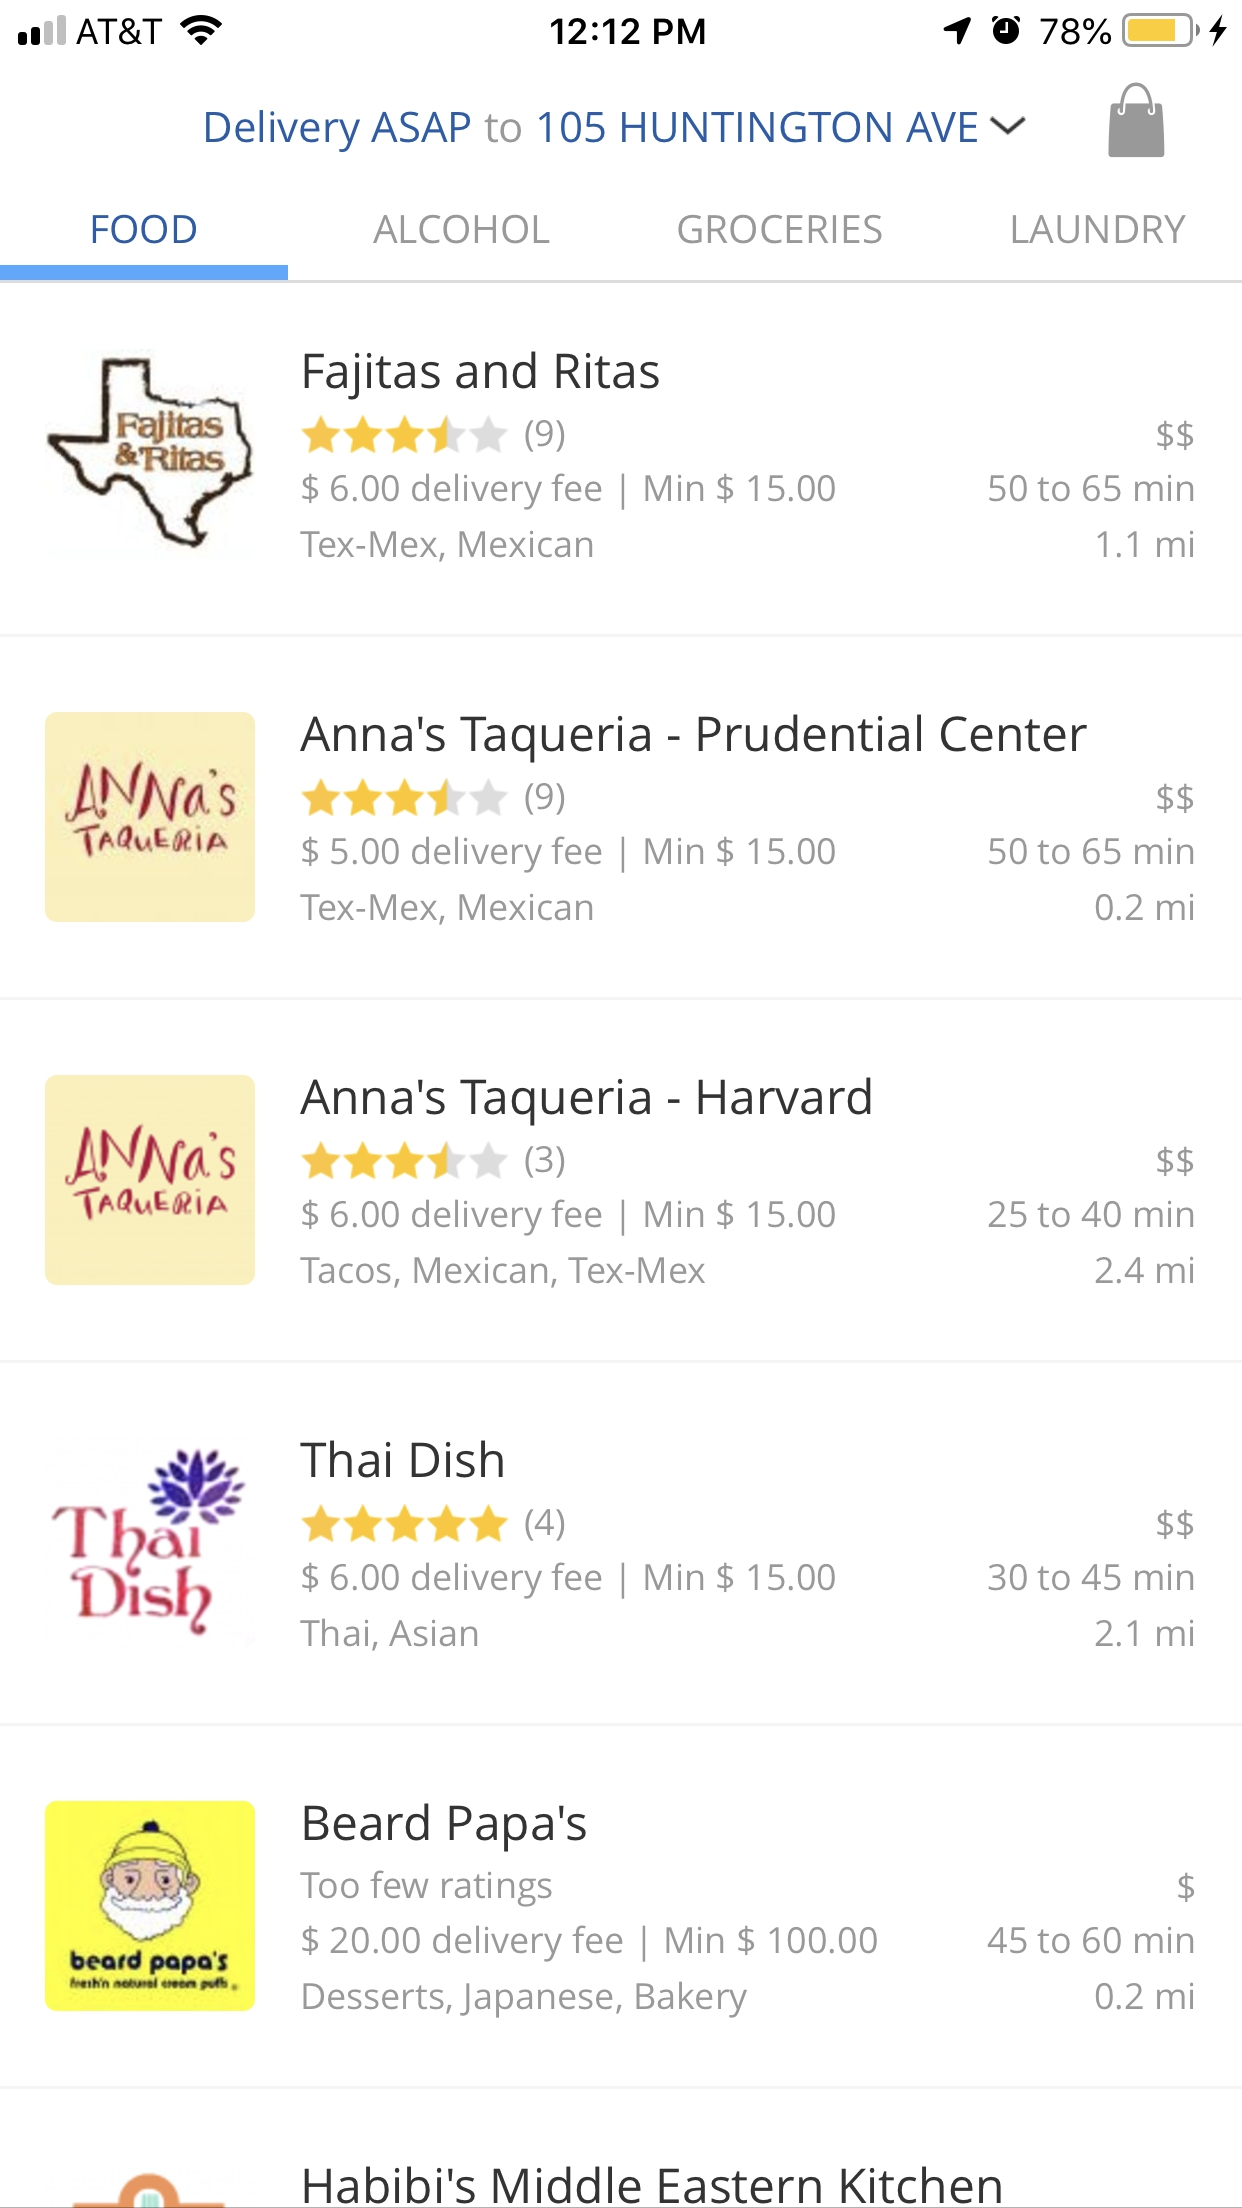Icon: (300, 776, 510, 817), (300, 1140, 510, 1181), (300, 1503, 510, 1544), (300, 416, 510, 455), (1109, 83, 1166, 159), (989, 115, 1027, 136)
Image: (44, 1800, 256, 2012), (44, 1075, 256, 1286), (45, 713, 256, 924), (47, 356, 255, 550), (52, 1447, 249, 1636), (73, 2173, 227, 2208)
Text: (300, 1868, 878, 2018), (299, 1560, 836, 1653), (299, 836, 836, 927), (300, 473, 836, 564), (300, 1198, 836, 1289), (300, 714, 1087, 764), (206, 111, 978, 155), (299, 1077, 872, 1127), (303, 2166, 1002, 2205), (303, 350, 660, 400), (303, 1802, 588, 1853), (300, 1439, 503, 1479), (678, 214, 883, 246), (986, 1924, 1193, 1955), (989, 837, 1193, 867), (987, 1563, 1193, 1592), (987, 1200, 1193, 1228), (989, 475, 1193, 503), (1011, 214, 1187, 246), (373, 215, 550, 246), (93, 212, 199, 246), (1096, 529, 1193, 560), (1093, 1256, 1193, 1284), (1095, 1981, 1193, 2009), (1095, 1620, 1193, 1648), (1095, 893, 1193, 922), (525, 1507, 566, 1542), (525, 783, 566, 817), (525, 1145, 566, 1178), (525, 420, 566, 453), (1156, 1509, 1193, 1541), (1156, 783, 1193, 814), (1156, 420, 1193, 450), (1156, 1146, 1193, 1177), (1177, 1871, 1193, 1903)
UpperTaskBar: (2, 2, 1242, 49)
